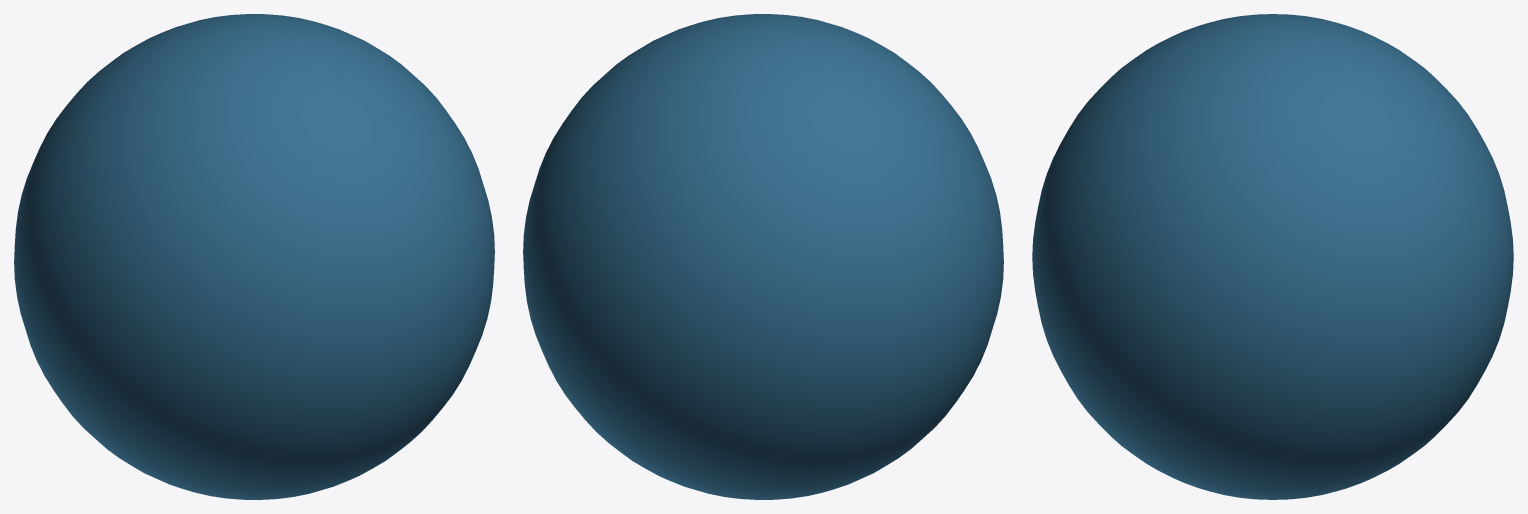
Rendered from back sphere left (anim group).gltf.
The picture shows the model from 3 angles, left to right: view 1: azimuth 30°, elevation 25°; view 2: azimuth 150°, elevation 25°; view 3: azimuth 270°, elevation 25°; orthographic projection.
Visible parts, largest first — view 1: back_sphere4; view 2: back_sphere4; view 3: back_sphere4.
Boxes of the visible parts, x1=… form: back_sphere4: x1=14, y1=14, x2=494, y2=499; back_sphere4: x1=523, y1=14, x2=1003, y2=499; back_sphere4: x1=1032, y1=14, x2=1513, y2=499.
Size of the model in its own units: 0.0394 by 0.04 by 0.0394.
1 material, 1 textured.
